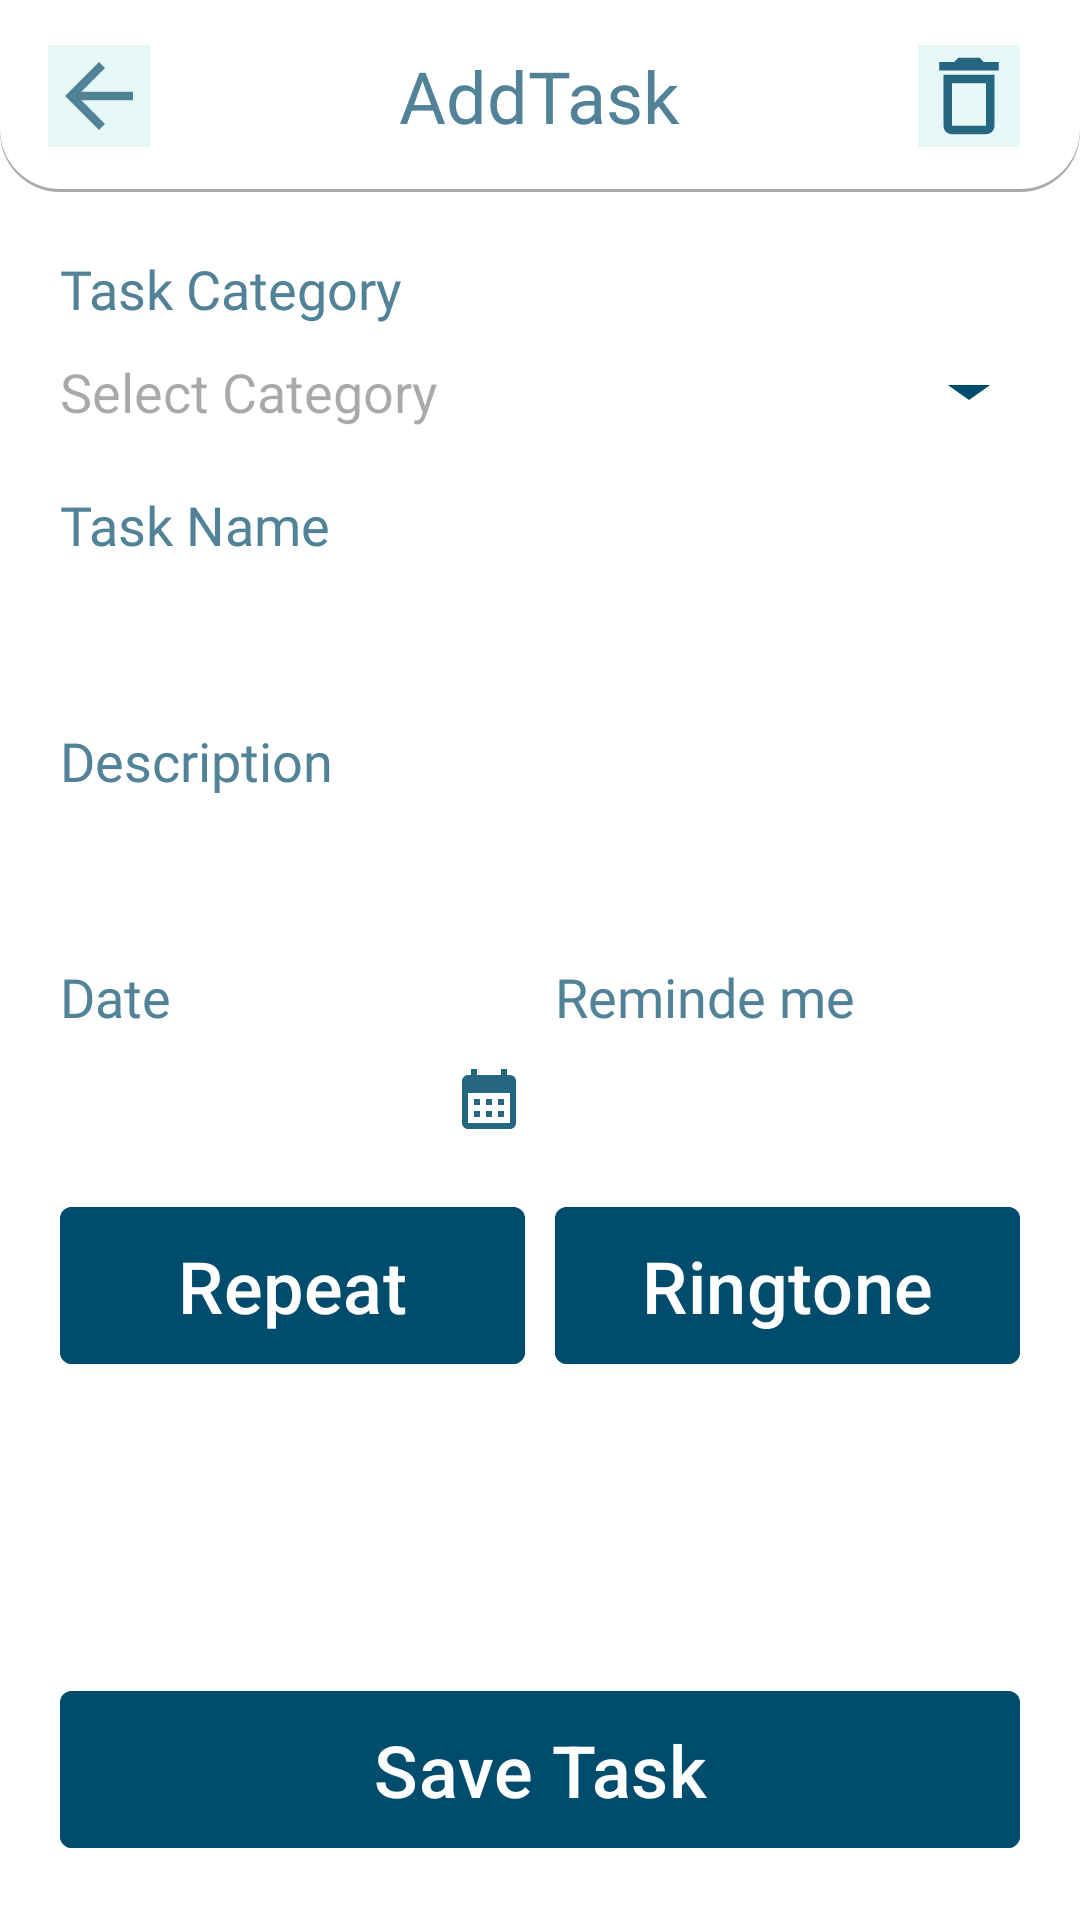

Locate icon controls on the screen. Image size 1080 × 1920, boxes as box=[x1, y1, x2, y2].
Button To delete Todo: box=[918, 45, 1020, 147]
Button To go back to Home Page: box=[48, 45, 150, 147]
